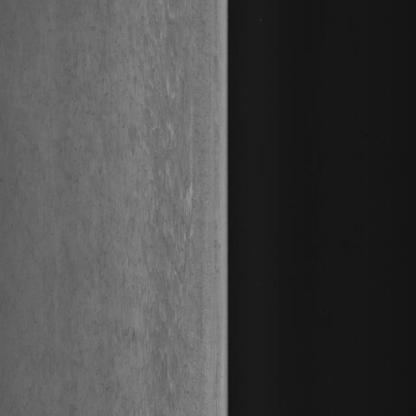silk_spot: (86, 20, 200, 382)
